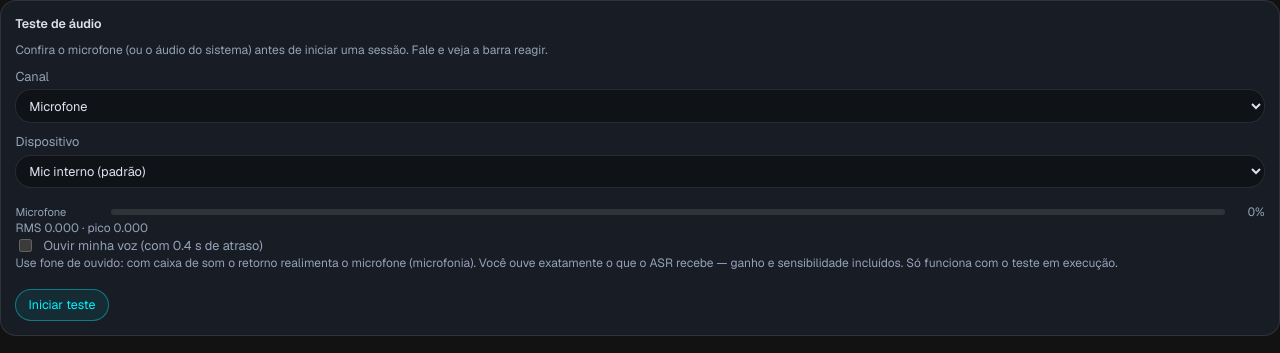
Test: AudioTestPanel — monitor atrasado › mostra o toggle só no microfone e desabilitado antes do teste
The width and height of the screenshot is (1280, 353).
Check: the checkbox labelled "Ouvir minha voz (com 0.4 s de atraso)" is disabled, box [19,238,32,252]
Check: the text "Ouvir minha voz (com 0.4 s de atraso)" is shown, box [43,236,263,254]
No áudio do sistema não faz sentido monitorar o próprio microfone.
Select "Áudio do sistema" in the dropdown labelled "Canal" at (640, 106), box [15,89,1265,123]
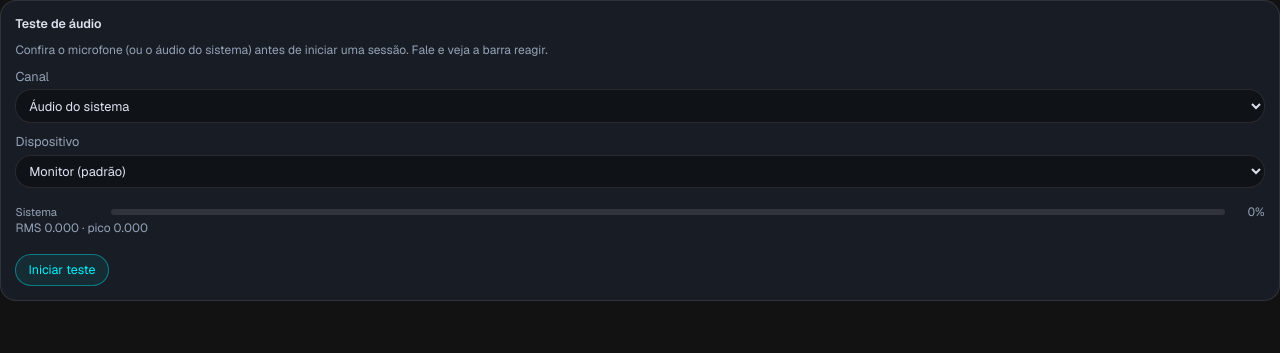
Check: the text "Ouvir minha voz" is gone
